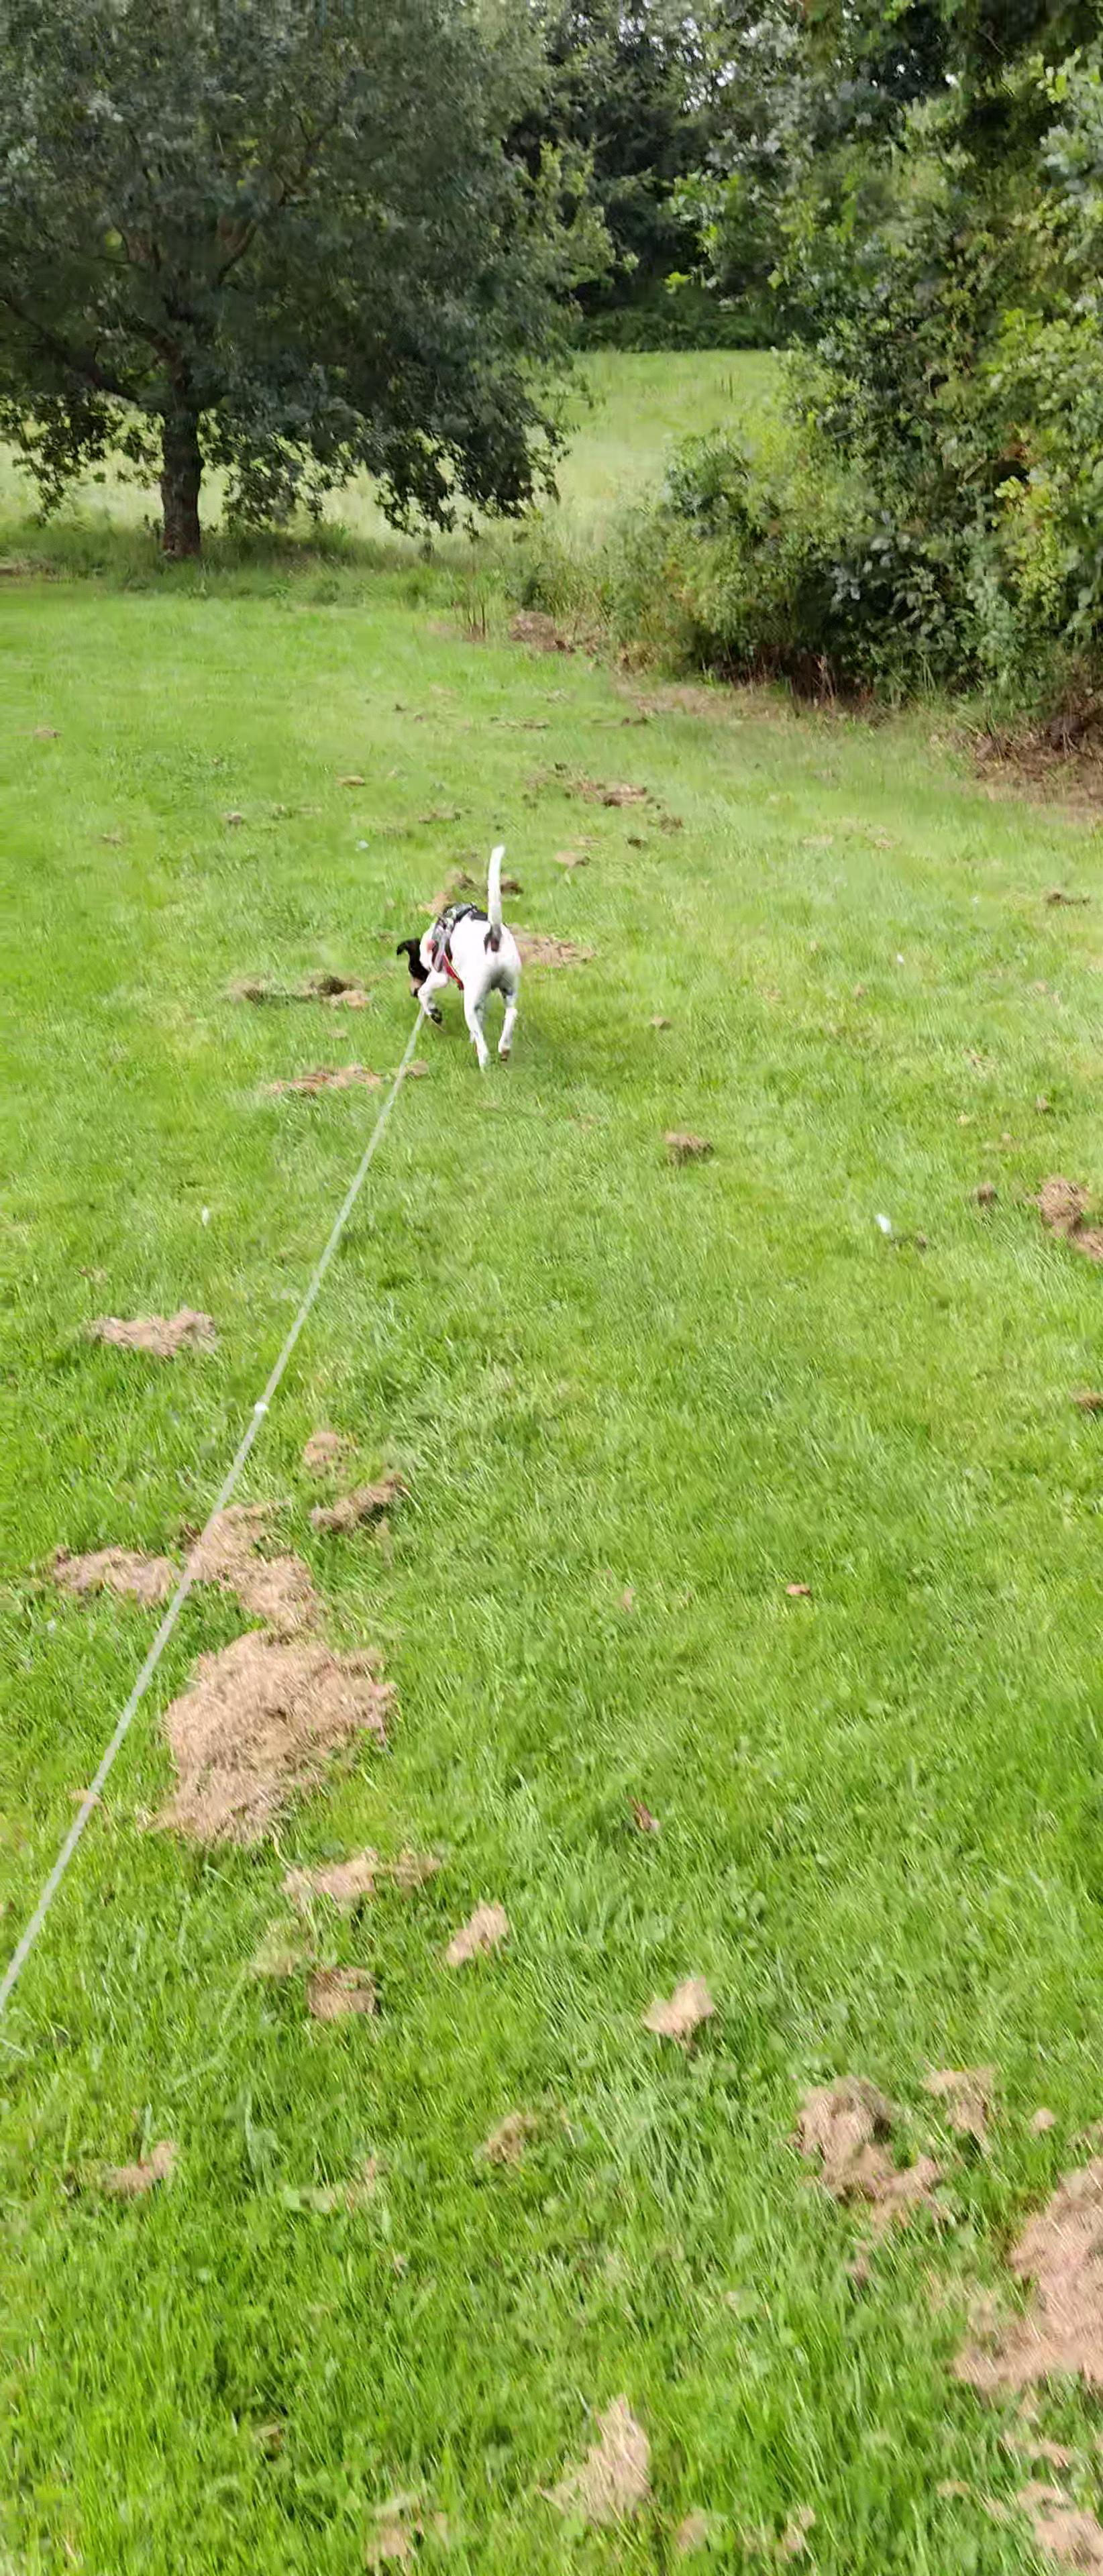Dog: (391, 826, 536, 1083)
